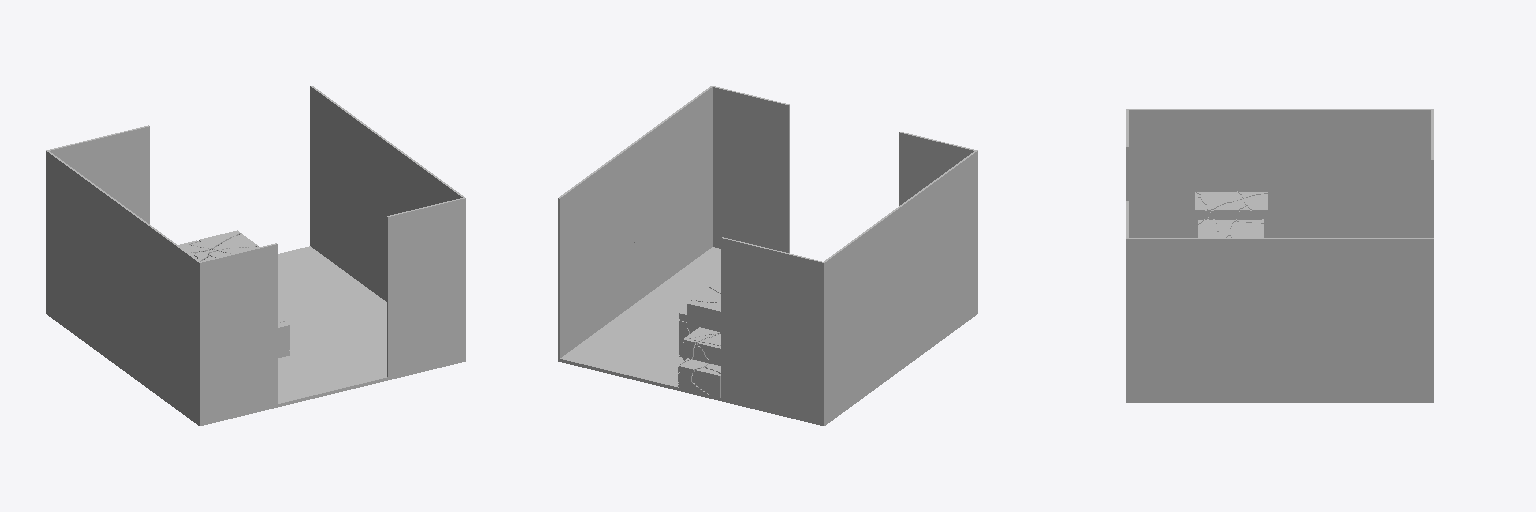
Rendered from Tutorial Map V1.0-3.obj.
3 views of the same model, side by side, from view 1: azimuth 30°, elevation 25°; view 2: azimuth 150°, elevation 25°; view 3: azimuth 270°, elevation 25° (orthographic).
Visible parts, largest first — view 1: object 1; view 2: object 1; view 3: object 1.
Part boxes in pixels (bbox=[...]): object 1: bbox=[46, 86, 465, 425]; object 1: bbox=[558, 86, 977, 425]; object 1: bbox=[1126, 109, 1433, 402].
Size of the model in its own units: 25.6 by 15 by 25.6.